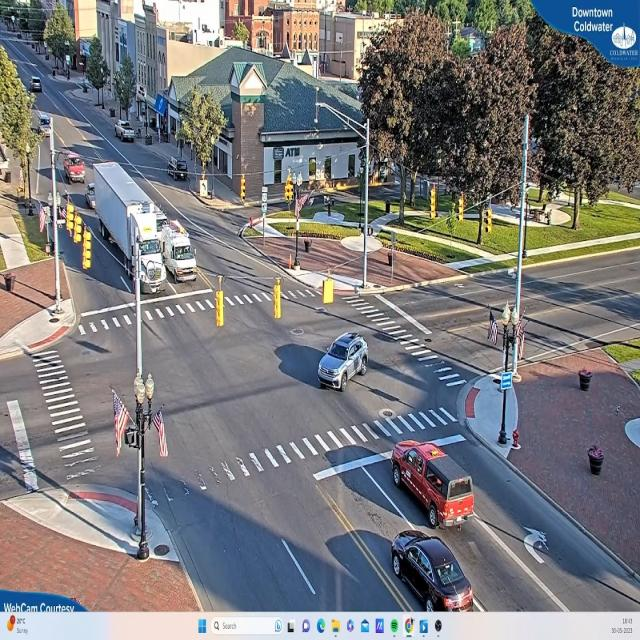car: (391, 439, 477, 530), (392, 528, 480, 610), (316, 331, 369, 390), (117, 122, 137, 144)
truck: (91, 162, 167, 292)
